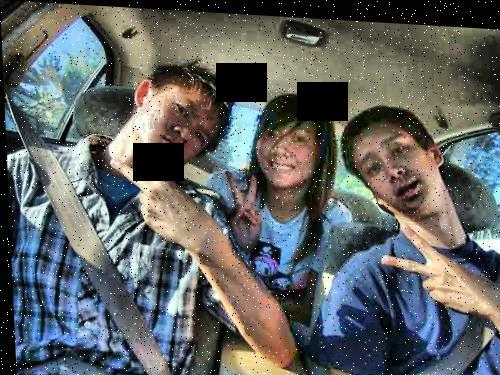seatbelt: (9, 85, 162, 371), (392, 270, 500, 375)
